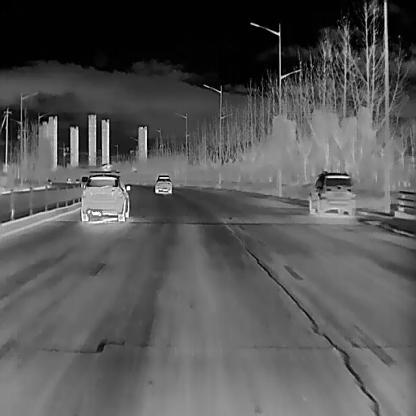car: (80, 170, 130, 221), (308, 170, 356, 216), (155, 174, 171, 193), (81, 176, 88, 188), (65, 177, 72, 183), (46, 178, 52, 184), (74, 178, 80, 184)
